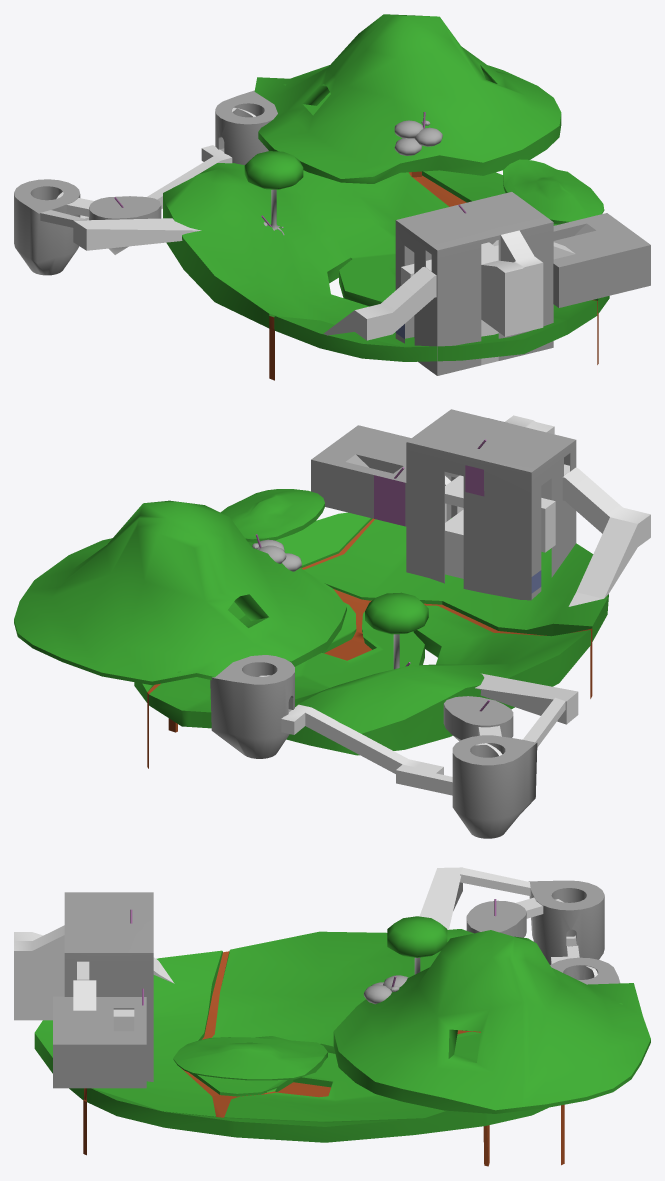
Rendered from level_design_test.fbx.
The picture shows the model from 3 angles, top to bottom: view 1: azimuth 30°, elevation 25°; view 2: azimuth 150°, elevation 25°; view 3: azimuth 270°, elevation 25°; orthographic projection. The views are drawn at different scales.
Parts seen in each view (by area): view 1: pCube59, pCube58, pCube5, pCube12, pPlane5, pPipe3, pCube61, pCube13, pPipe4, pCube60, pCylinder4, pCylinder3 (+1 smaller); view 2: pCube59, pCube58, pCube5, pCube12, pPipe3, pPipe4, pCube13, pCube9, pCube61, pCube60, pCylinder3, pCylinder4 (+3 smaller); view 3: pCube59, pCube58, pCube5, pCube12, pCube61, pPipe3, pPlane5, pCylinder4, pCylinder3, pCube60, pPipe4, pPlane14 (+2 smaller).
Boxes of the visible parts, x1,y1,x2,y2 form: pCube59: [163, 163, 609, 380]; pCube58: [254, 14, 561, 183]; pCube5: [395, 192, 553, 375]; pCube12: [553, 213, 650, 307]; pPlane5: [481, 230, 543, 336]; pPipe3: [14, 179, 80, 275]; pCube61: [503, 159, 604, 224]; pCube13: [323, 266, 436, 340]; pPipe4: [215, 90, 277, 164]; pCube60: [73, 218, 201, 250]; pCylinder4: [244, 151, 303, 235]; pCylinder3: [89, 196, 161, 254]; pCube59: [134, 512, 608, 768]; pCube58: [14, 500, 346, 732]; pCube5: [406, 409, 576, 600]; pCube12: [311, 425, 451, 526]; pPipe3: [452, 735, 537, 838]; pPipe4: [210, 655, 294, 758]; pCube13: [562, 467, 650, 606]; pCube9: [281, 704, 452, 795]; pCube61: [220, 489, 324, 543]; pCube60: [475, 673, 578, 724]; pCylinder3: [443, 696, 513, 741]; pCylinder4: [365, 592, 428, 669]; pCube59: [34, 929, 564, 1165]; pCube58: [333, 930, 650, 1166]; pCube5: [64, 892, 153, 1081]; pCube12: [53, 996, 146, 1088]; pCube61: [173, 1036, 327, 1080]; pPipe3: [528, 880, 604, 964]; pPlane5: [14, 925, 64, 1020]; pCylinder4: [387, 916, 447, 974]; pCylinder3: [466, 900, 526, 937]; pCube60: [419, 867, 462, 929]; pPipe4: [550, 957, 620, 984]; pPlane14: [460, 867, 530, 895].
Bounding box in the file's own units: 53.32 × 23.28 × 56.82.
